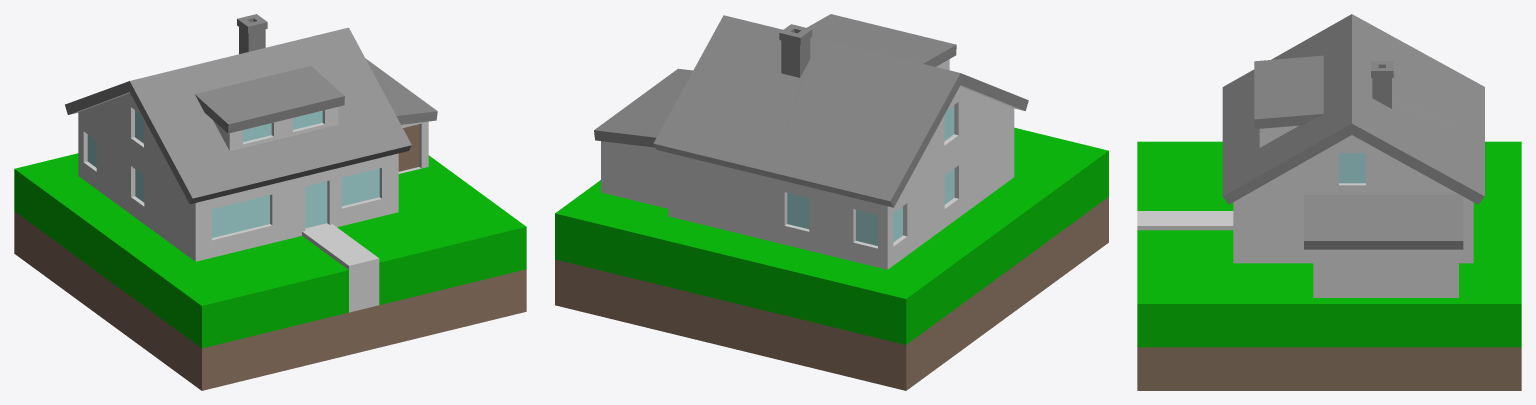
Rendered from CasaPequenaGaragem.fbx.
The picture shows the model from 3 angles, left to right: view 1: azimuth 30°, elevation 25°; view 2: azimuth 150°, elevation 25°; view 3: azimuth 270°, elevation 25°; orthographic projection. The views are drawn at different scales.
Parts seen in each view (by area): view 1: CasaPequenaGaragem; view 2: CasaPequenaGaragem; view 3: CasaPequenaGaragem.
Part boxes in pixels (x1,y1,x2,y2): CasaPequenaGaragem: (14,14,526,390); CasaPequenaGaragem: (555,14,1108,390); CasaPequenaGaragem: (1137,14,1521,390).
Size of the model in its own units: 3.79 by 2.69 by 3.79.
